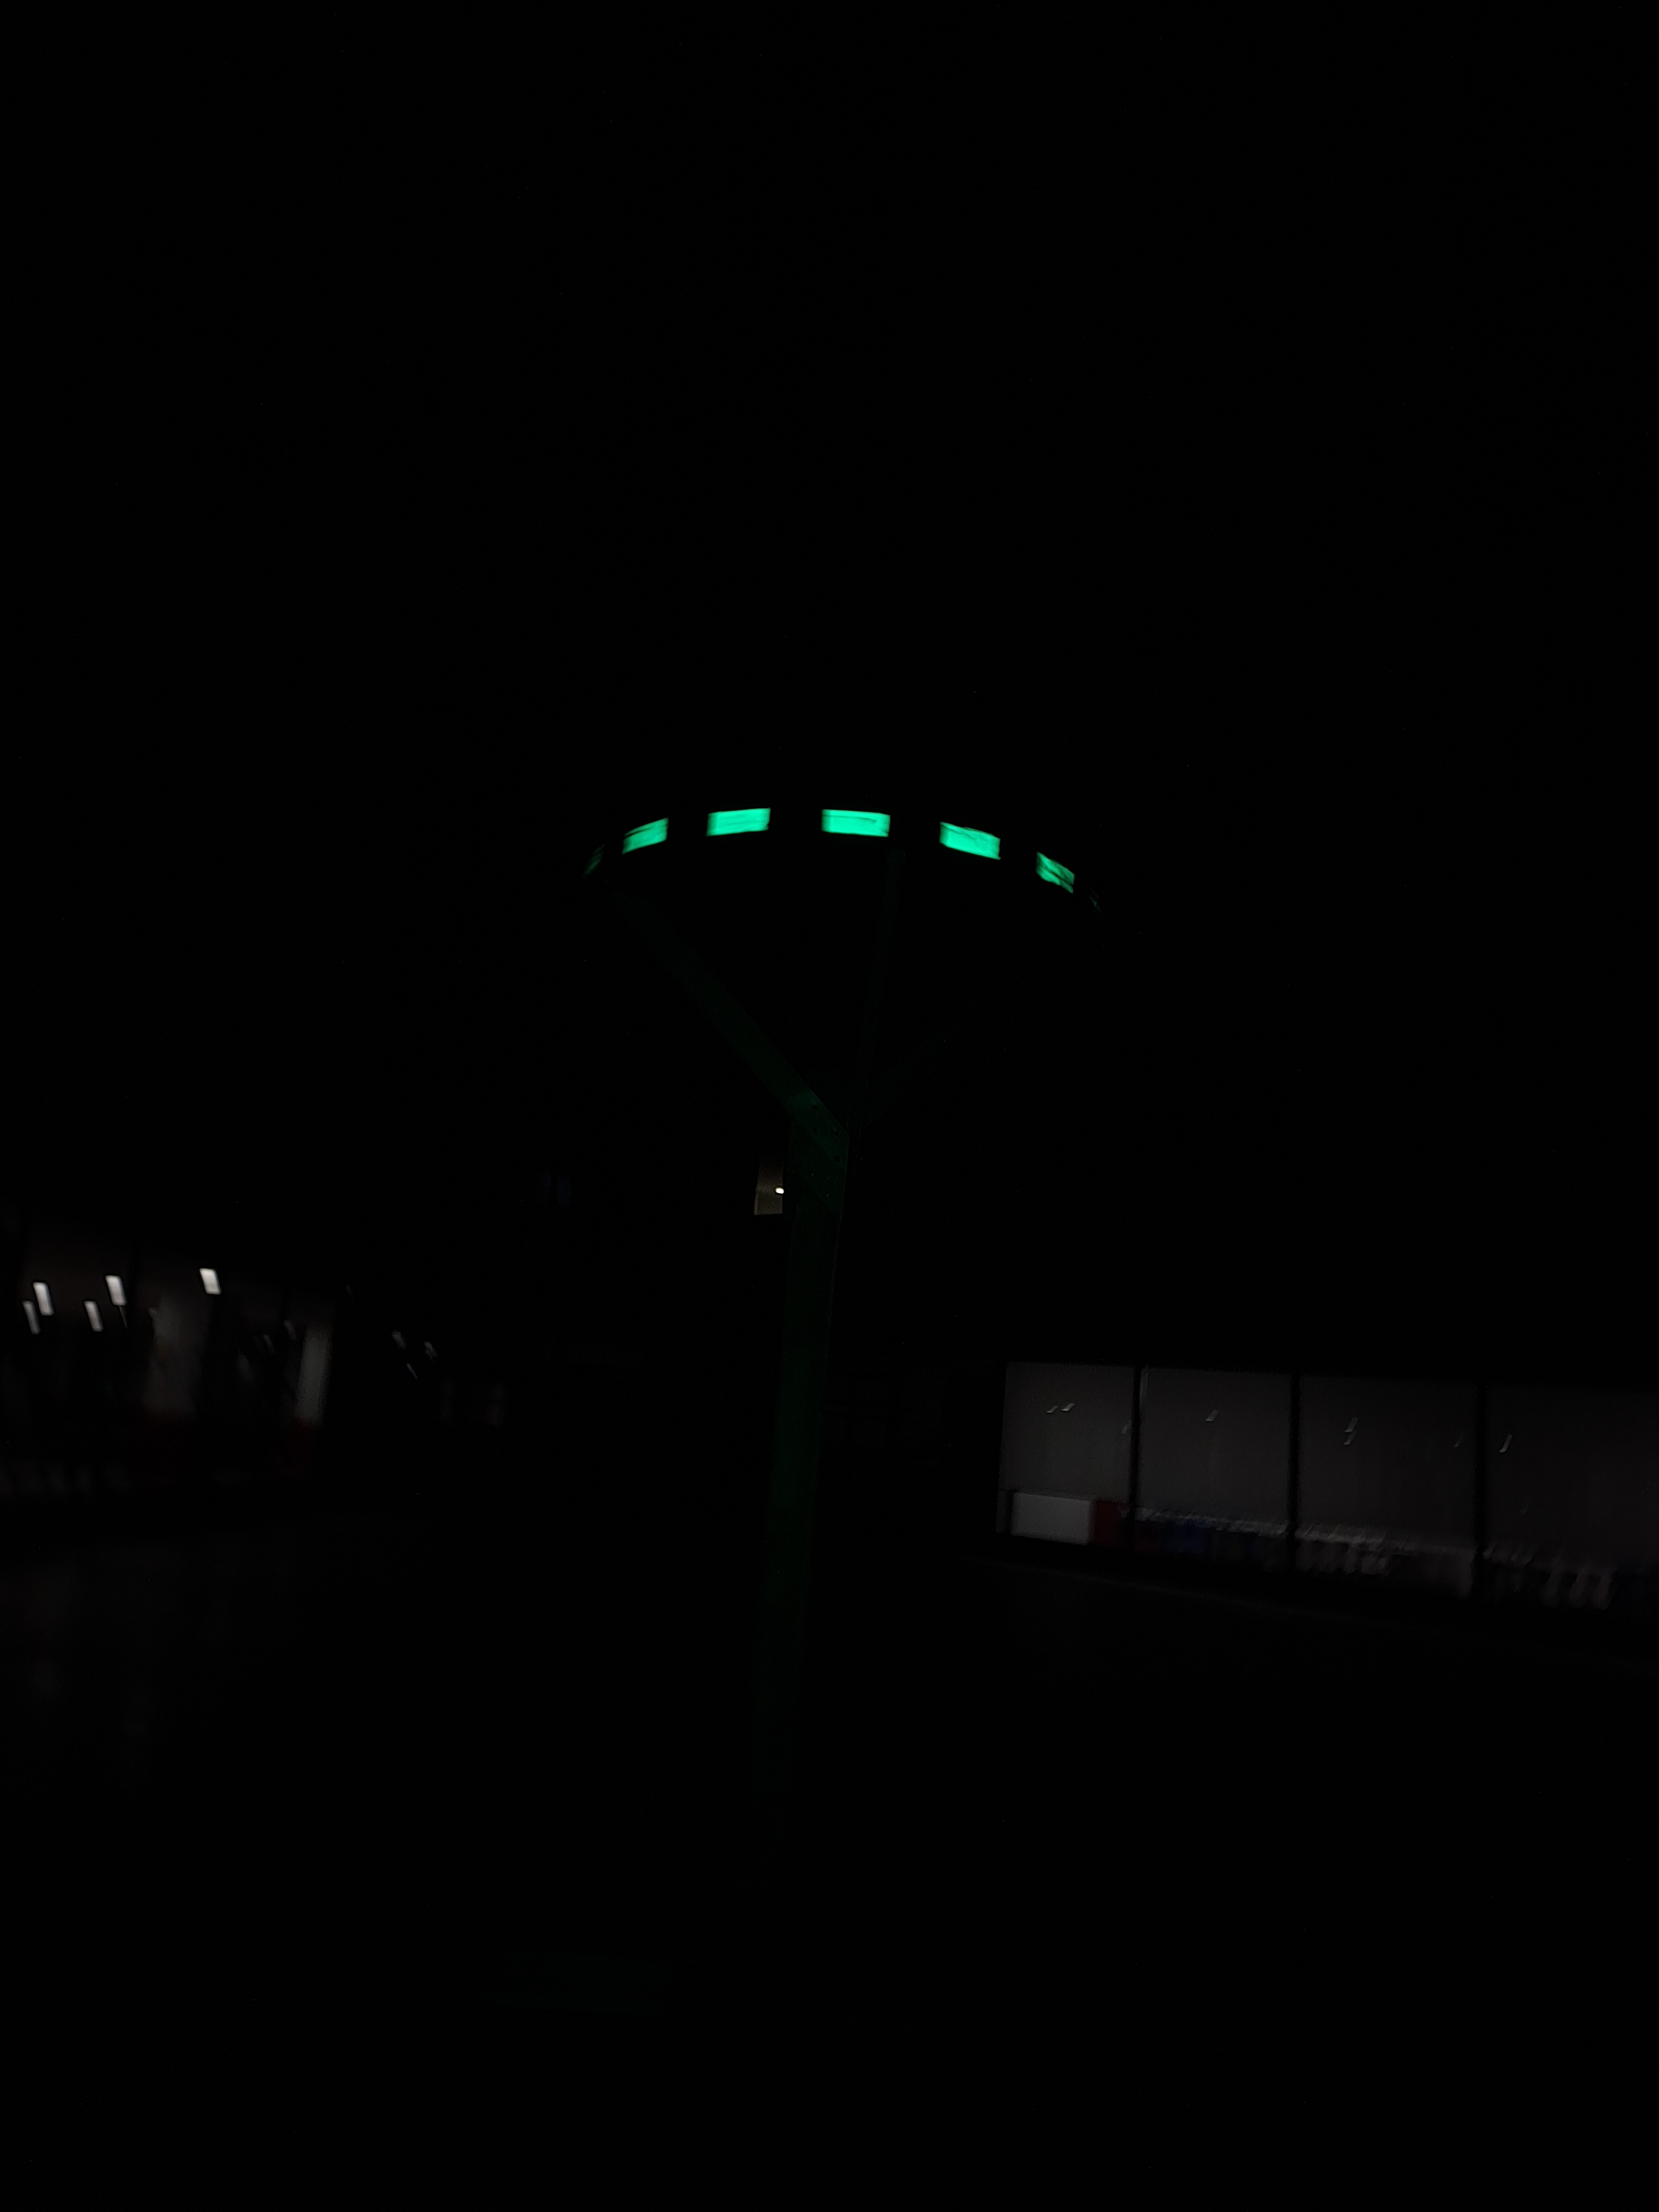hoop: (617, 792, 1084, 909)
